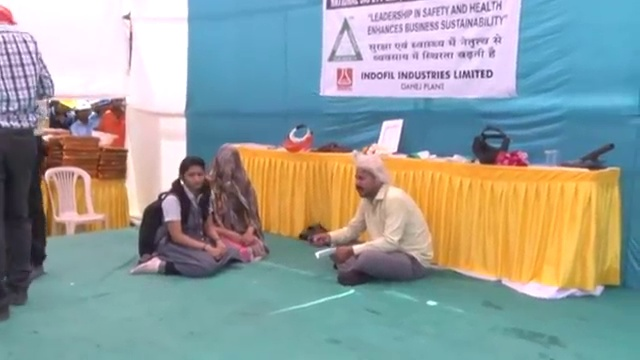helmet: (92, 131, 119, 148), (58, 97, 76, 109), (74, 99, 90, 112)
helmet_off: (344, 154, 390, 204), (211, 149, 247, 197), (175, 156, 206, 198), (111, 98, 125, 111)
helmet_on: (53, 96, 76, 118), (74, 98, 91, 125)
person: (310, 153, 432, 289), (0, 6, 51, 324), (139, 152, 239, 286), (195, 145, 267, 264), (99, 98, 126, 150), (69, 99, 98, 138), (49, 96, 76, 130)
